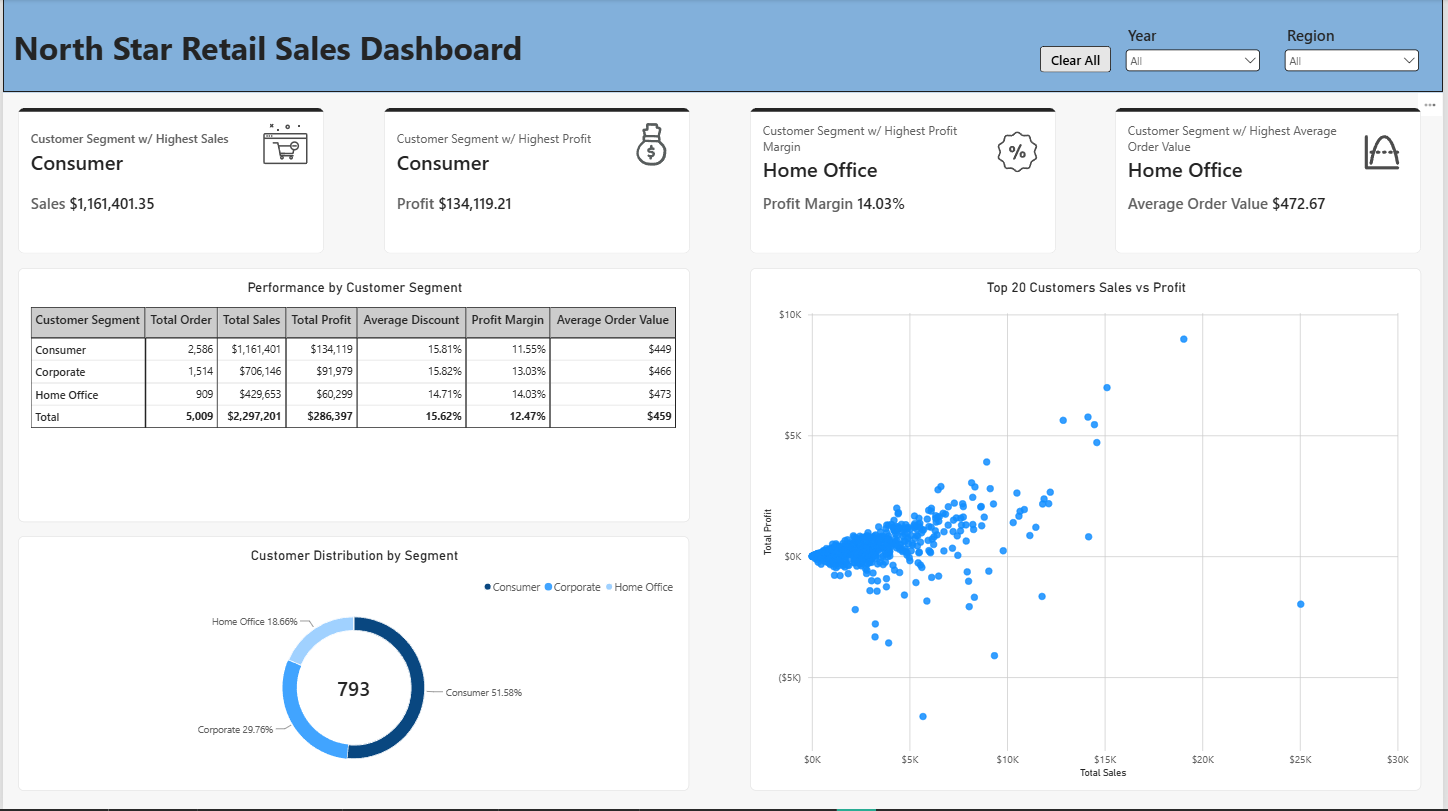

Layout of this report page (visuals, bound fields, positions):
{"tool":"powerbi","page":{"name":"Customer Analysis","canvas":[1920,1080],"ordinal":3},"visuals":[{"type":"shape","box":[0,0,1919.7,124.6],"z":0},{"type":"textbox","box":[0,35,706.7,75],"z":1000},{"type":"slicer","fields":{"Values":["dim_date.date.Variation.Date Hierarchy.Year"]},"box":[1492.1,33.9,188.5,88.5],"z":2000},{"type":"slicer","fields":{"Values":["dim_customer.region"]},"box":[1704,33.9,188.5,88.5],"z":3000},{"type":"actionButton","box":[1383,62.8,94.7,35.3],"z":4000},{"type":"cardVisual","fields":{"Data":["_measures.Top Sales Segment Name"]},"box":[20.3,144.7,408.3,194.7],"z":5000},{"type":"cardVisual","fields":{"Data":["_measures.Top Profit Segment Name"]},"box":[507.9,144.7,408.3,194.7],"z":6000},{"type":"cardVisual","fields":{"Data":["_measures.Top Profit Margin Segment Name"]},"box":[995.6,144.7,408.3,194.7],"z":7000},{"type":"cardVisual","fields":{"Data":["_measures.Top Average Order Value Segment Name"]},"box":[1483.3,144.7,408,194.2],"z":8000},{"type":"pivotTable","title":"Performance by Customer Segment","fields":{"Rows":["dim_customer.segment"],"Values":["_measures.total_order","_measures.total_sales","_measures.total_profit","_measures.average_discount","_measures.profit_margin","_measures.Average Order Value"]},"box":[20.3,358.3,896.5,339.4],"z":9000},{"type":"scatterChart","title":"Top 20 Customers Sales vs Profit","fields":{"X":["_measures.total_sales"],"Category":["dim_customer.customer_id"],"Y":["_measures.total_profit"]},"box":[995.8,359,895.4,697.3],"z":10000},{"type":"donutChart","title":"Customer Distribution by Segment","fields":{"Category":["dim_customer.segment"],"Y":["Count(dim_customer.customer_id)"]},"box":[20.6,716.6,895.4,339.7],"z":11000}]}

Visuals, with their boxes in screenshot pixels (x1, y1, x2, y2), scaled from the page's 1920x1080 canvas onto the 1448x811 screenshot:
shape: 0, 0, 1447, 94
textbox: 0, 26, 533, 83
slicer - dim_date.date.Variation.Date Hierarchy.Year: 1125, 25, 1267, 92
slicer - dim_customer.region: 1285, 25, 1427, 92
actionButton: 1043, 47, 1114, 74
cardVisual - _measures.Top Sales Segment Name: 15, 109, 323, 255
cardVisual - _measures.Top Profit Segment Name: 383, 109, 691, 255
cardVisual - _measures.Top Profit Margin Segment Name: 751, 109, 1059, 255
cardVisual - _measures.Top Average Order Value Segment Name: 1119, 109, 1426, 254
"Performance by Customer Segment" pivotTable: 15, 269, 691, 524
"Top 20 Customers Sales vs Profit" scatterChart: 751, 270, 1426, 793
"Customer Distribution by Segment" donutChart: 16, 538, 691, 793
